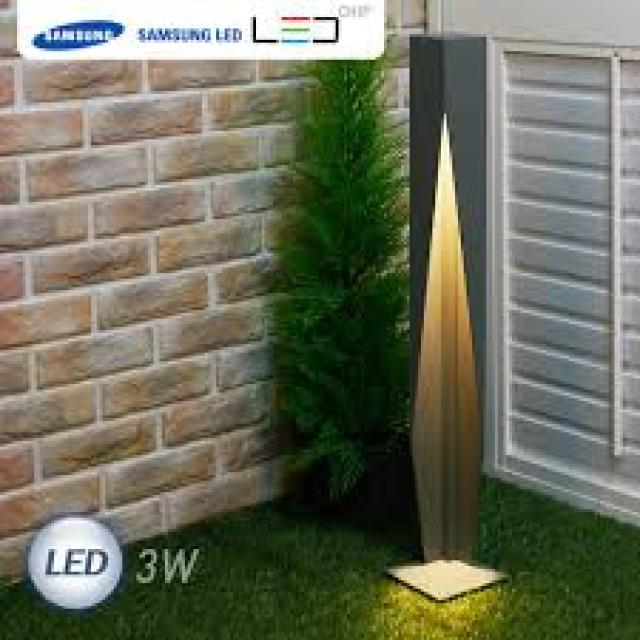bollard: (392, 21, 510, 615)
